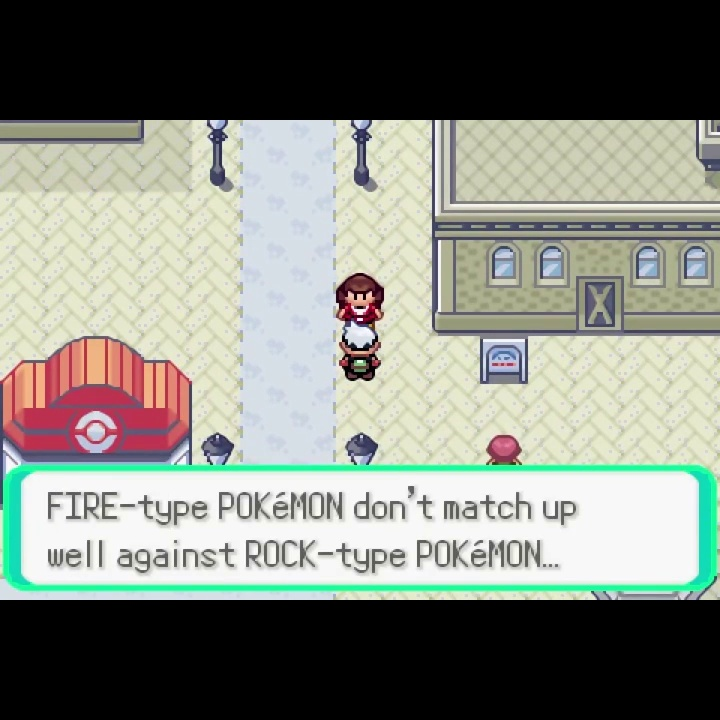house: (429, 119, 720, 336)
npc: (335, 321, 383, 384), (334, 272, 386, 326), (481, 431, 525, 465)
pokecen: (1, 332, 195, 466)
